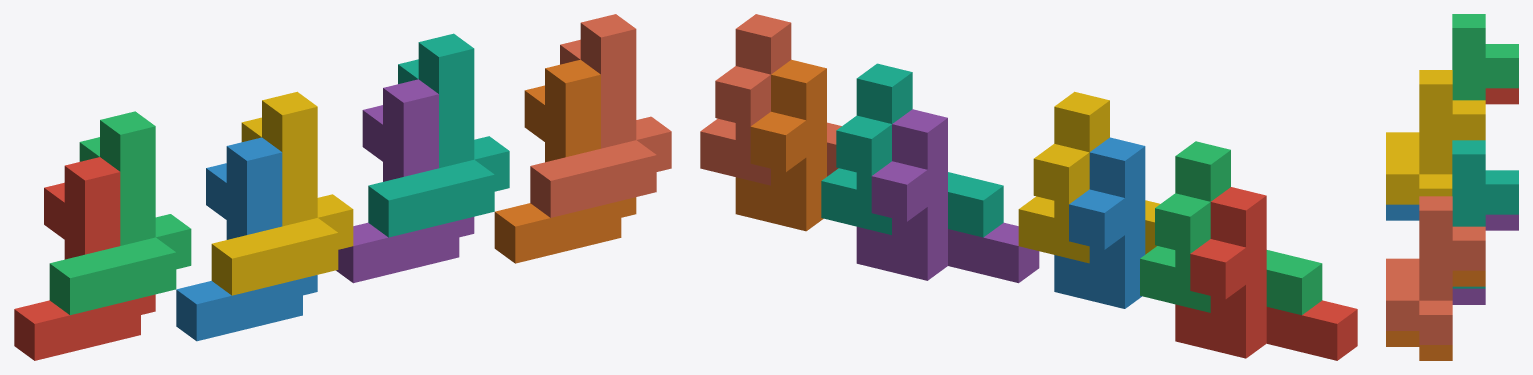
Rendered from tiling.obj.
The picture shows the model from 3 angles, left to right: view 1: azimuth 30°, elevation 25°; view 2: azimuth 150°, elevation 25°; view 3: azimuth 270°, elevation 25°; orthographic projection. The views are drawn at different scales.
Visible parts, largest first — view 1: copy_1_domain_4, copy_1_domain_3, copy_1_domain_7, copy_1_domain_8, copy_1_domain_6, copy_1_domain_1, copy_1_domain_2, copy_1_domain_5; view 2: copy_1_domain_1, copy_1_domain_5, copy_1_domain_3, copy_1_domain_7, copy_1_domain_2, copy_1_domain_6, copy_1_domain_4, copy_1_domain_8; view 3: copy_1_domain_8, copy_1_domain_4, copy_1_domain_7, copy_1_domain_3, copy_1_domain_6, copy_1_domain_5, copy_1_domain_1, copy_1_domain_2.
Part boxes in pixels (bbox=[...]): copy_1_domain_4: bbox=[211, 91, 353, 295]; copy_1_domain_3: bbox=[49, 111, 191, 315]; copy_1_domain_7: bbox=[368, 33, 509, 237]; copy_1_domain_8: bbox=[530, 14, 671, 217]; copy_1_domain_6: bbox=[494, 59, 636, 263]; copy_1_domain_1: bbox=[14, 157, 155, 360]; copy_1_domain_2: bbox=[176, 137, 317, 341]; copy_1_domain_5: bbox=[336, 79, 474, 283]; copy_1_domain_1: bbox=[1175, 187, 1357, 360]; copy_1_domain_5: bbox=[856, 109, 1039, 283]; copy_1_domain_3: bbox=[1140, 141, 1322, 315]; copy_1_domain_7: bbox=[821, 63, 1003, 237]; copy_1_domain_2: bbox=[1054, 137, 1145, 308]; copy_1_domain_6: bbox=[735, 59, 826, 231]; copy_1_domain_4: bbox=[1018, 91, 1159, 263]; copy_1_domain_8: bbox=[700, 14, 841, 185]; copy_1_domain_8: bbox=[1386, 196, 1485, 344]; copy_1_domain_4: bbox=[1386, 70, 1485, 204]; copy_1_domain_7: bbox=[1452, 140, 1518, 288]; copy_1_domain_3: bbox=[1452, 14, 1518, 100]; copy_1_domain_6: bbox=[1386, 270, 1485, 360]; copy_1_domain_5: bbox=[1452, 214, 1518, 304]; copy_1_domain_1: bbox=[1485, 88, 1518, 104]; copy_1_domain_2: bbox=[1386, 204, 1419, 220].
Size of the model in its own units: 18 by 5 by 4.
